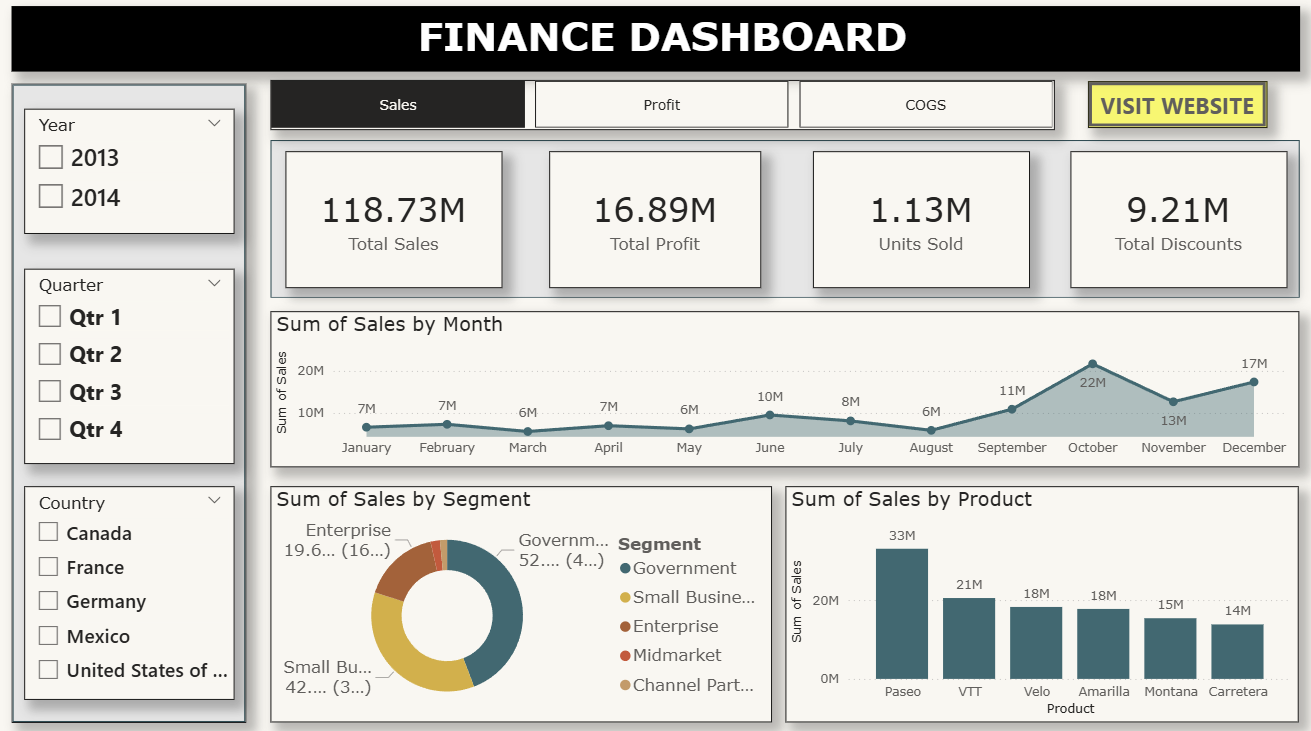

Layout of this report page (visuals, bound fields, positions):
{"tool":"powerbi","page":{"name":"Sales ","canvas":[1280,720],"ordinal":7},"visuals":[{"type":"textbox","box":[23.1,15.9,1235,62],"z":0},{"type":"shape","box":[23.1,89.5,225.1,613.2],"z":1000},{"type":"slicer","fields":{"Values":["financials.Country"]},"box":[34.6,476.1,202,204.9],"z":2000},{"type":"slicer","fields":{"Values":["financials.Date.Variation.Date Hierarchy.Year"]},"box":[34.6,114,202,119.7],"z":3000},{"type":"shape","box":[271.2,144.3,986.8,151.5],"z":4000},{"type":"card","fields":{"Values":["Sum(financials. Sales)"]},"box":[285.7,154.4,207.8,131.3],"z":5000},{"type":"card","fields":{"Values":["Sum(financials.Profit)"]},"box":[538.2,154.4,203.4,131.3],"z":6000},{"type":"card","fields":{"Values":["Sum(financials.Units Sold)"]},"box":[790.6,154.4,207.8,131.3],"z":7000},{"type":"card","fields":{"Values":["Sum(financials.Discounts)"]},"box":[1037.3,154.4,207.8,131.3],"z":8000},{"type":"donutChart","fields":{"Category":["financials.Segment"],"Y":["Sum(financials. Sales)"]},"box":[271.2,476.1,480.4,226.5],"z":9000},{"type":"lineChart","fields":{"Category":["financials.Date.Variation.Date Hierarchy.Month"],"Y":["Sum(financials. Sales)"]},"box":[270.9,308,986.4,149.8],"z":10000},{"type":"pageNavigator","box":[271.2,86.6,751.7,47.6],"z":11000},{"type":"columnChart","fields":{"Category":["financials.Product"],"Y":["Sum(financials. Sales)"]},"box":[764.7,476.1,492,226.5],"z":12000},{"type":"slicer","fields":{"Values":["financials.Date.Variation.Date Hierarchy.Quarter"]},"box":[34.6,266.9,202,187.6],"z":13000},{"type":"actionButton","box":[1054.7,88,171.7,44.7],"z":14000}]}

Visuals, with their boxes in screenshot pixels (x1, y1, x2, y2), scaled from the page's 1280x720 canvas onto the 1311x731 screenshot:
textbox: 24/16/1289/79
shape: 24/91/254/713
slicer - financials.Country: 35/483/242/691
slicer - financials.Date.Variation.Date Hierarchy.Year: 35/116/242/237
shape: 278/147/1288/300
card - Sum(financials. Sales): 293/157/505/290
card - Sum(financials.Profit): 551/157/760/290
card - Sum(financials.Units Sold): 810/157/1023/290
card - Sum(financials.Discounts): 1062/157/1275/290
donutChart - financials.Segment x Sum(financials. Sales): 278/483/770/713
lineChart - financials.Date.Variation.Date Hierarchy.Month x Sum(financials. Sales): 277/313/1288/465
pageNavigator: 278/88/1048/136
columnChart - financials.Product x Sum(financials. Sales): 783/483/1287/713
slicer - financials.Date.Variation.Date Hierarchy.Quarter: 35/271/242/461
actionButton: 1080/89/1256/135
